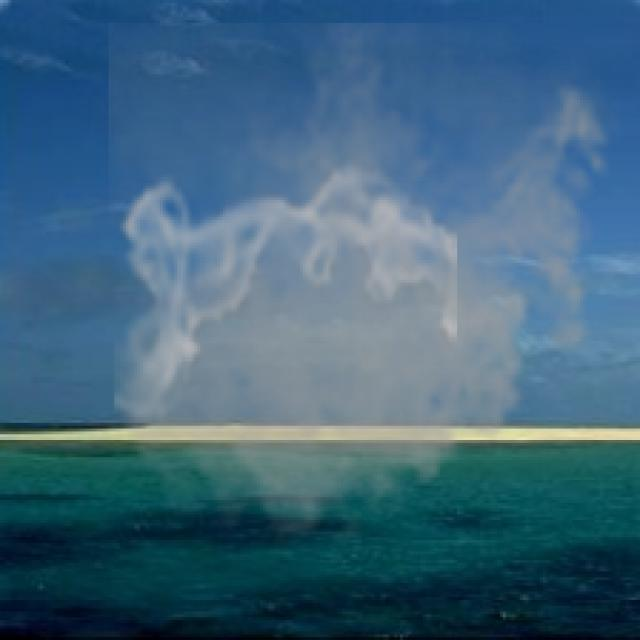smoke: (109, 23, 626, 557)
